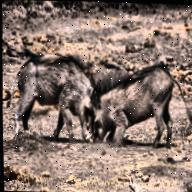boar: (86, 60, 192, 148), (5, 50, 99, 144)
